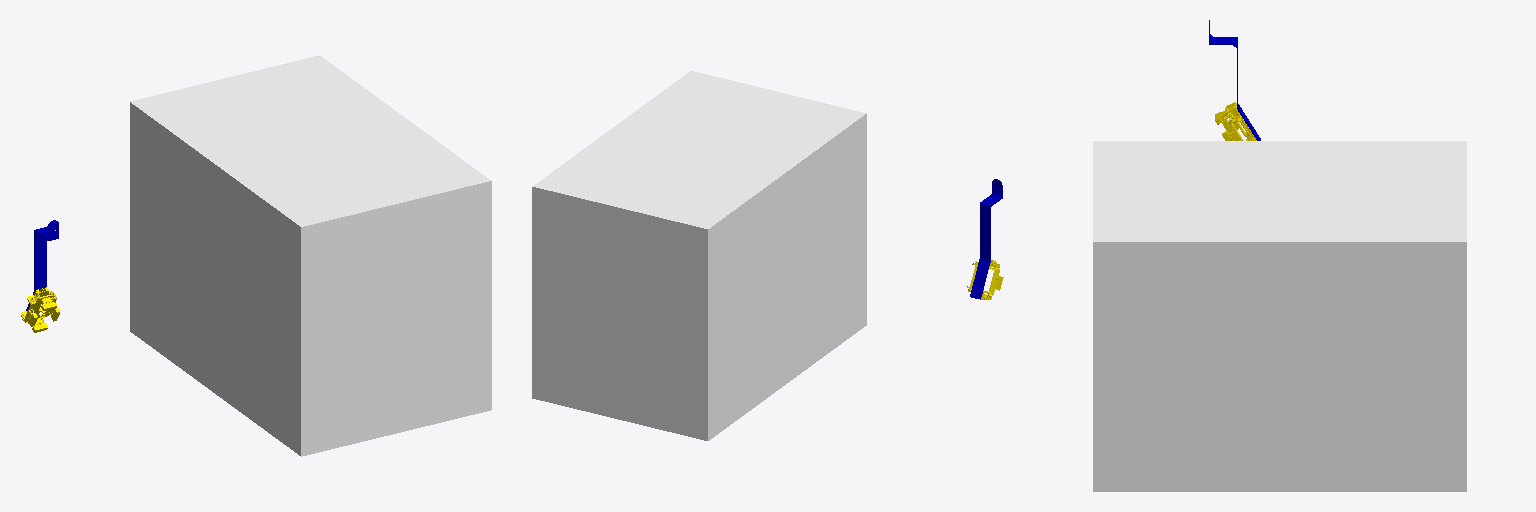
robot.urdf — S20:
<?xml version="1.0" ?>
<robot name="S20">
  <!-- material definition -->
  <material name="black">
    <color rgba="0.0 0.0 0.0 1.0"/>
  </material>
  <material name="blue">
    <color rgba="0.0 0.0 0.8 1.0"/>
  </material>
  <material name="green">
    <color rgba="0.0 0.8 0.0 1.0"/>
  </material>
  <material name="grey">
    <color rgba="0.2 0.2 0.2 1.0"/>
  </material>
  <material name="orange">
    <color rgba="1.0 0.4235294117647059 0.0392156862745098 1.0"/>
  </material>
  <material name="brown">
    <color rgba="0.8705882352941177 0.8117647058823529 0.7647058823529411 1.0"/>
  </material>
  <material name="red">
    <color rgba="0.8 0.0 0.0 1.0"/>
  </material>
  <material name="white">
    <color rgba="1.0 1.0 1.0 1.0"/>
  </material>
  <material name="metal">
    <color rgba="0.768627450980392 0.749019607843137 0.729411764705882 1"/>
  </material>
  <material name="metal_grey">
    <color rgba="0.501960784313725 0.501960784313725 0.501960784313725 1"/>
  </material>
  <material name="metal_white">
    <color rgba="0.866666666666667 0.866666666666667 0.890196078431373 1"/>
  </material>
  <!-- ros_control plugin -->
  <gazebo>
    <plugin filename="libgazebo_ros_control.so" name="gazebo_ros_control">
      <robotSimType>gazebo_ros_control/DefaultRobotHWSim</robotSimType>
      <legacyModeNS>true</legacyModeNS>
    </plugin>
  </gazebo>
  <gazebo reference="elfin_link2">
    <visual name="visual">
      <material>
        <script>
          <uri>file:/[local-path]/scripts/gazebo.material</uri>
          <name>Gazebo/Grey</name>
        </script>
      </material>
    </visual>
  </gazebo>
  <gazebo reference="elfin_link4">
    <visual name="visual">
      <material>
        <script>
          <uri>file:/[local-path]/scripts/gazebo.material</uri>
          <name>Gazebo/Grey</name>
        </script>
      </material>
    </visual>
  </gazebo>
  <!-- transmission for each joint -->
  <transmission name="mobile_base_joint1_trans">
    <type>transmission_interface/SimpleTransmission</type>
    <joint name="mobile_base_joint1">
      <hardwareInterface>hardware_interface/PositionJointInterface</hardwareInterface>
    </joint>
    <actuator name="mobile_base_joint1_motor">
      <mechanicalReduction>1</mechanicalReduction>
    </actuator>
  </transmission>
  <transmission name="mobile_base_joint2_trans">
    <type>transmission_interface/SimpleTransmission</type>
    <joint name="mobile_base_joint2">
      <hardwareInterface>hardware_interface/PositionJointInterface</hardwareInterface>
    </joint>
    <actuator name="mobile_base_joint2_motor">
      <mechanicalReduction>1</mechanicalReduction>
    </actuator>
  </transmission>
  <transmission name="elfin_joint1_trans">
    <type>transmission_interface/SimpleTransmission</type>
    <joint name="elfin_joint1">
      <hardwareInterface>hardware_interface/PositionJointInterface</hardwareInterface>
    </joint>
    <actuator name="elfin_joint1_motor">
      <mechanicalReduction>1</mechanicalReduction>
    </actuator>
  </transmission>
  <transmission name="elfin_joint2_trans">
    <type>transmission_interface/SimpleTransmission</type>
    <joint name="elfin_joint2">
      <hardwareInterface>hardware_interface/PositionJointInterface</hardwareInterface>
    </joint>
    <actuator name="elfin_joint2_motor">
      <mechanicalReduction>1</mechanicalReduction>
    </actuator>
  </transmission>
  <transmission name="elfin_joint3_trans">
    <type>transmission_interface/SimpleTransmission</type>
    <joint name="elfin_joint3">
      <hardwareInterface>hardware_interface/PositionJointInterface</hardwareInterface>
    </joint>
    <actuator name="elfin_joint3_motor">
      <mechanicalReduction>1</mechanicalReduction>
    </actuator>
  </transmission>
  <transmission name="elfin_joint4_trans">
    <type>transmission_interface/SimpleTransmission</type>
    <joint name="elfin_joint4">
      <hardwareInterface>hardware_interface/PositionJointInterface</hardwareInterface>
    </joint>
    <actuator name="elfin_joint4_motor">
      <mechanicalReduction>1</mechanicalReduction>
    </actuator>
  </transmission>
  <transmission name="elfin_joint5_trans">
    <type>transmission_interface/SimpleTransmission</type>
    <joint name="elfin_joint5">
      <hardwareInterface>hardware_interface/PositionJointInterface</hardwareInterface>
    </joint>
    <actuator name="elfin_joint5_motor">
      <mechanicalReduction>1</mechanicalReduction>
    </actuator>
  </transmission>
  <transmission name="elfin_joint6_trans">
    <type>transmission_interface/SimpleTransmission</type>
    <joint name="elfin_joint6">
      <hardwareInterface>hardware_interface/PositionJointInterface</hardwareInterface>
    </joint>
    <actuator name="elfin_joint6_motor">
      <mechanicalReduction>1</mechanicalReduction>
    </actuator>
  </transmission>
  <!-- link and joint -->
  <link name="world"/>
  <joint name="mobile_base_joint1" type="prismatic">
    <origin rpy="0 0 0" xyz="0 0 0"/>
    <parent link="world"/>
    <child link="mobile_base_link1"/>
    <axis xyz="1 0 0"/>
    <limit effort="200" lower="-5" upper="5" velocity="0.5"/>
  </joint>
  <link name="mobile_base_link1">
    <visual>
      <origin rpy="0 0 0" xyz="0 0 0.05"/>
      <geometry>
        <box size="0.1 0.1 0.1"/>
      </geometry>
      <material name="">
        <color rgba="1 1 1 1"/>
      </material>
    </visual>
    <collision>
      <origin rpy="0 0 0" xyz="0 0 0.05"/>
      <geometry>
        <box size="0.1 0.1 0.1"/>
      </geometry>
    </collision>
    <inertial>
      <origin rpy="0 0 0" xyz="0 0 0.05" />
      <mass value="1.0" />
      <inertia
        ixx="1.0" ixy="0.0" ixz="0.0"
        iyy="1.0" iyz="0.0"
        izz="1.0" />
    </inertial>
  </link>
  <joint name="mobile_base_joint2" type="prismatic">
    <origin rpy="0 0 0" xyz="0 0 0"/>
    <parent link="mobile_base_link1"/>
    <child link="mobile_base_link2"/>
    <axis xyz="0 1 0"/>
    <limit effort="200" lower="-5" upper="5" velocity="0.5"/>
  </joint>
  <link name="mobile_base_link2">
    <visual>
      <origin rpy="0 0 0" xyz="0 0 0.59"/>
      <geometry>
        <box size="1.024 1.6 1.18"/>
      </geometry>
      <material name="">
        <color rgba="1 1 1 1"/>
      </material>
    </visual>
    <collision>
      <origin rpy="0 0 0" xyz="0 0 0.59"/>
      <geometry>
        <box size="1.024 1.6 1.18"/>
      </geometry>
    </collision>
    <inertial>
      <origin rpy="0 0 0" xyz="0 0 0.59" />
      <mass value="1.0" />
      <inertia
        ixx="1.0" ixy="0.0" ixz="0.0"
        iyy="1.0" iyz="0.0"
        izz="1.0" />
    </inertial>
  </link>
  <joint name="elfin_fixed_joint" type="fixed">
    <origin rpy="0 0 0" xyz="0 0 1.18"/>
    <parent link="mobile_base_link2"/>
    <child link="elfin_base_link"/>
  </joint>
  <link name="elfin_base_link"/>
  <joint name="elfin_base_joint" type="fixed">
    <origin rpy="0 0 0" xyz="0 0 0"/>
    <parent link="elfin_base_link"/>
    <child link="elfin_base"/>
  </joint>
  <link name="elfin_base">
    <inertial>
      <origin rpy="0 0 0" xyz="-0.00131650768656017 3.86349405459754E-05 0.0343213199540785"/>
      <mass value="2.32181468230125"/>
      <inertia ixx="0.00741739022505177" ixy="-9.4225231258528E-05" ixz="-5.45619950886553E-05" iyy="0.00699483778046143" iyz="1.30022773204213E-06" izz="0.0123390065438587"/>
    </inertial>
    <visual>
      <origin rpy="0 0 0" xyz="0 0 0"/>
      <geometry>
        <mesh filename="package://elfin_description/meshes/S20/elfin_base.STL"/>
      </geometry>
      <material name="">
        <color rgba="0.752941176470588 0.752941176470588 0.752941176470588 1"/>
      </material>
    </visual>
    <collision>
      <origin rpy="0 0 0" xyz="0 0 0"/>
      <geometry>
        <mesh filename="package://elfin_description/meshes/S20/elfin_base.STL"/>
      </geometry>
    </collision>
  </link>
  <link name="elfin_link1">
    <inertial>
      <origin rpy="0 0 0" xyz="-1.0792519167212E-07 -0.0224399626110038 0.00175002240516534"/>
      <mass value="6.93455742496729"/>
      <inertia ixx="0.0460589183335357" ixy="5.43718136375216E-07" ixz="2.96738634298801E-07" iyy="0.0375916708812216" iyz="-0.000245581780149179" izz="0.0394268304468804"/>
    </inertial>
    <visual>
      <origin rpy="0 0 0" xyz="0 0 0"/>
      <geometry>
        <mesh filename="package://elfin_description/meshes/S20/elfin_link1.STL"/>
      </geometry>
      <material name="">
        <color rgba="0.898039215686275 0.917647058823529 0.929411764705882 1"/>
      </material>
    </visual>
    <collision>
      <origin rpy="0 0 0" xyz="0 0 0"/>
      <geometry>
        <mesh filename="package://elfin_description/meshes/S20/elfin_link1.STL"/>
      </geometry>
    </collision>
  </link>
  <joint name="elfin_joint1" type="revolute">
    <origin rpy="0 0 0" xyz="0 0 0.171"/>
    <parent link="elfin_base"/>
    <child link="elfin_link1"/>
    <axis xyz="0 0 1"/>
    <limit effort="200" lower="-6.28" upper="6.28" velocity="1.57"/>
  </joint>
  <link name="elfin_link2">
    <inertial>
      <origin rpy="0 0 0" xyz="-0.370229694350317 9.38128437405483E-07 0.000899041883029139"/>
      <mass value="18.8395085758056"/>
      <inertia ixx="0.0687507132351259" ixy="-5.05507420279161E-07" ixz="-6.41343868263508E-05" iyy="0.411200291693132" iyz="-1.80729528146994E-07" izz="0.40138597350588"/>
    </inertial>
    <visual>
      <origin rpy="0 0 0" xyz="0 0 0"/>
      <geometry>
        <mesh filename="package://elfin_description/meshes/S20/elfin_link2.STL"/>
      </geometry>
      <material name="">
        <color rgba="0.752941176470588 0.752941176470588 0.752941176470588 1"/>
      </material>
    </visual>
    <collision>
      <origin rpy="0 0 0" xyz="0 0 0"/>
      <geometry>
        <mesh filename="package://elfin_description/meshes/S20/elfin_link2.STL"/>
      </geometry>
    </collision>
  </link>
  <joint name="elfin_joint2" type="revolute">
    <origin rpy="1.5708 0 0" xyz="0 -0.2295 0"/>
    <parent link="elfin_link1"/>
    <child link="elfin_link2"/>
    <axis xyz="0 0 1"/>
    <limit effort="200" lower="-3.3158" upper="0.1745" velocity="1.57"/>
  </joint>
  <link name="elfin_link3">
    <inertial>
      <origin rpy="0 0 0" xyz="0.310973076601113 -4.7405306624615E-09 0.0109938899740937"/>
      <mass value="7.53508270364931"/>
      <inertia ixx="0.0133872719937165" ixy="1.91460600478011E-07" ixz="0.00152175061957157" iyy="0.11837455186459" iyz="-2.26041817837737E-08" izz="0.116582348081593"/>
    </inertial>
    <visual>
      <origin rpy="0 0 0" xyz="0 0 0"/>
      <geometry>
        <mesh filename="package://elfin_description/meshes/S20/elfin_link3.STL"/>
      </geometry>
      <material name="">
        <color rgba="0.752941176470588 0.752941176470588 0.752941176470588 1"/>
      </material>
    </visual>
    <collision>
      <origin rpy="0 0 0" xyz="0 0 0"/>
      <geometry>
        <mesh filename="package://elfin_description/meshes/S20/elfin_link3.STL"/>
      </geometry>
    </collision>
  </link>
  <joint name="elfin_joint3" type="revolute">
    <origin rpy="0 0 3.1416" xyz="-0.85 0 -0.1885"/>
    <parent link="elfin_link2"/>
    <child link="elfin_link3"/>
    <axis xyz="0 0 1"/>
    <limit effort="200" lower="-2.9319" upper="2.9319" velocity="1.57"/>
  </joint>
  <link name="elfin_link4">
    <inertial>
      <origin rpy="0 0 0" xyz="8.5204157129759E-07 -0.00559612992738279 0.124499710924349"/>
      <mass value="1.26777180180805"/>
      <inertia ixx="0.00300888445161096" ixy="1.64612435809042E-08" ixz="3.62281943568331E-08" iyy="0.00214465218602862" iyz="9.35786831203314E-05" izz="0.00239761638151984"/>
    </inertial>
    <visual>
      <origin rpy="0 0 0" xyz="0 0 0"/>
      <geometry>
        <mesh filename="package://elfin_description/meshes/S20/elfin_link4.STL"/>
      </geometry>
      <material name="">
        <color rgba="0.898039215686275 0.917647058823529 0.929411764705882 1"/>
      </material>
    </visual>
    <collision>
      <origin rpy="0 0 0" xyz="0 0 0"/>
      <geometry>
        <mesh filename="package://elfin_description/meshes/S20/elfin_link4.STL"/>
      </geometry>
    </collision>
  </link>
  <joint name="elfin_joint4" type="revolute">
    <origin rpy="0 0 0" xyz="0.712 0 0"/>
    <parent link="elfin_link3"/>
    <child link="elfin_link4"/>
    <axis xyz="0 0 1"/>
    <limit effort="104" lower="-6.28" upper="6.28" velocity="1.57"/>
  </joint>
  <link name="elfin_link5">
    <inertial>
      <origin rpy="0 0 0" xyz="-1.58900480728974E-06 0.00559613044782842 0.124499711309393"/>
      <mass value="1.26777180180803"/>
      <inertia ixx="0.00300888445161093" ixy="1.64612435696446E-08" ixz="-3.62281943491141E-08" iyy="0.00214465218602857" iyz="-9.35786831203246E-05" izz="0.00239761638151982"/>
    </inertial>
    <visual>
      <origin rpy="0 0 0" xyz="0 0 0"/>
      <geometry>
        <mesh filename="package://elfin_description/meshes/S20/elfin_link5.STL"/>
      </geometry>
      <material name="">
        <color rgba="0.752941176470588 0.752941176470588 0.752941176470588 1"/>
      </material>
    </visual>
    <collision>
      <origin rpy="0 0 0" xyz="0 0 0"/>
      <geometry>
        <mesh filename="package://elfin_description/meshes/S20/elfin_link5.STL"/>
      </geometry>
    </collision>
  </link>
  <joint name="elfin_joint5" type="revolute">
    <origin rpy="-1.5708 0 0" xyz="0 0 0.138"/>
    <parent link="elfin_link4"/>
    <child link="elfin_link5"/>
    <axis xyz="0 0 1"/>
    <limit effort="34" lower="-6.28" upper="6.28" velocity="1.57"/>
  </joint>
  <link name="elfin_link6">
    <inertial>
      <origin rpy="0 0 0" xyz="-7.47115137089693E-07 0.000102435646244473 0.0904183015693256"/>
      <mass value="0.468079508708449"/>
      <inertia ixx="0.000412770805513074" ixy="1.60636639637837E-08" ixz="-3.02343967687703E-08" iyy="0.000415704740293176" iyz="1.46595766333508E-07" izz="0.000530952415351683"/>
    </inertial>
    <visual>
      <origin rpy="0 0 0" xyz="0 0 0"/>
      <geometry>
        <mesh filename="package://elfin_description/meshes/S20/elfin_link6.STL"/>
      </geometry>
      <material name="">
        <color rgba="0.752941176470588 0.752941176470588 0.752941176470588 1"/>
      </material>
    </visual>
    <collision>
      <origin rpy="0 0 0" xyz="0 0 0"/>
      <geometry>
        <mesh filename="package://elfin_description/meshes/S20/elfin_link6.STL"/>
      </geometry>
    </collision>
  </link>
  <joint name="elfin_joint6" type="revolute">
    <origin rpy="1.5708 0 0" xyz="0 0 0.138"/>
    <parent link="elfin_link5"/>
    <child link="elfin_link6"/>
    <axis xyz="0 0 1"/>
    <limit effort="34" lower="-6.28" upper="6.28" velocity="1.57"/>
  </joint>
  <link name="elfin_end_link">
  </link>
  <joint name="elfin_end_joint" type="fixed">
    <origin rpy="0 0 3.1416" xyz="0 0 0.1257"/>
    <parent link="elfin_link6"/>
    <child link="elfin_end_link"/>
  </joint>
  <link name="ee_link">
    <visual>
      <origin rpy="0 0 0" xyz="0 0 0"/>
      <geometry>
        <mesh filename="package://elfin_description/meshes/S20/ee_link.STL"/>
      </geometry>
      <material name="">
        <color rgba="0 0 0.8 1"/>
      </material>
    </visual>
    <collision>
      <origin rpy="0 0 0" xyz="0 0 0"/>
      <geometry>
        <mesh filename="package://elfin_description/meshes/S20/ee_link.STL"/>
      </geometry>
    </collision>
  </link>
  <joint name="ee_link_joint" type="fixed">
    <origin rpy="-1.5707 0 1.5707" xyz="0.035 -0.155 0"/>
    <parent link="elfin_end_link"/>
    <child link="ee_link"/>
  </joint>
  <link name="gripper_link0">
    <visual>
      <origin rpy="0 0 0" xyz="0 0 0"/>
      <geometry>
        <mesh filename="package://elfin_description/meshes/S20/gripper_link.STL"/>
      </geometry>
      <material name="">
        <color rgba="0 0 0.8 1"/>
      </material>
    </visual>
    <collision>
      <origin rpy="0 0 0" xyz="0 0 0"/>
      <geometry>
        <mesh filename="package://elfin_description/meshes/S20/gripper_link.STL"/>
      </geometry>
    </collision>
  </link>
  <joint name="gripper_link_joint0" type="fixed">
    <origin rpy="1.5707 0 0" xyz="-0.1 0.124 0"/>
    <parent link="ee_link"/>
    <child link="gripper_link0"/>
  </joint>
  <link name="gripper_link1">
    <visual>
      <origin rpy="0 0 0" xyz="0 0 0"/>
      <geometry>
        <mesh filename="package://elfin_description/meshes/S20/gripper_link.STL"/>
      </geometry>
      <material name="">
        <color rgba="0 0 0.8 1"/>
      </material>
    </visual>
    <collision>
      <origin rpy="0 0 0" xyz="0 0 0"/>
      <geometry>
        <mesh filename="package://elfin_description/meshes/S20/gripper_link.STL"/>
      </geometry>
    </collision>
  </link>
  <joint name="gripper_link_joint1" type="fixed">
    <origin rpy="0 0 0" xyz="-0.1 0 0"/>
    <parent link="gripper_link0"/>
    <child link="gripper_link1"/>
  </joint>
  <link name="gripper_link_ee1">
    <visual>
      <origin rpy="0 0 0" xyz="0 0 0"/>
      <geometry>
        <mesh filename="package://elfin_description/meshes/S20/gripper_link.STL"/>
      </geometry>
      <material name="">
        <color rgba="0 0 0.8 1"/>
      </material>
    </visual>
    <collision>
      <origin rpy="0 0 0" xyz="0 0 0"/>
      <geometry>
        <mesh filename="package://elfin_description/meshes/S20/gripper_link.STL"/>
      </geometry>
    </collision>
  </link>
  <joint name="gripper_link_joint_ee1" type="fixed">
    <origin rpy="0 -0.5235 0" xyz="-0.0866 0 -0.05"/>
    <parent link="gripper_link1"/>
    <child link="gripper_link_ee1"/>
  </joint>
  <link name="gripper_link_ee2">
    <visual>
      <origin rpy="0 0 0" xyz="0 0 0"/>
      <geometry>
        <mesh filename="package://elfin_description/meshes/S20/gripper_link.STL"/>
      </geometry>
      <material name="">
        <color rgba="0 0 0.8 1"/>
      </material>
    </visual>
    <collision>
      <origin rpy="0 0 0" xyz="0 0 0"/>
      <geometry>
        <mesh filename="package://elfin_description/meshes/S20/gripper_link.STL"/>
      </geometry>
    </collision>
  </link>
  <joint name="gripper_link_joint_ee2" type="fixed">
    <origin rpy="0 0 0" xyz="-0.1 0 0"/>
    <parent link="gripper_link_ee1"/>
    <child link="gripper_link_ee2"/>
  </joint>
  <link name="needle_gripper">
    <visual>
      <origin rpy="0 0 0" xyz="0 0 0"/>
      <geometry>
        <mesh filename="package://elfin_description/meshes/S20/needle_gripper.STL"/>
      </geometry>
      <material name="">
        <color rgba="1.0 0.92 0.016 1"/>
      </material>
    </visual>
    <collision>
      <origin rpy="0 0 0" xyz="0 0 0"/>
      <geometry>
        <mesh filename="package://elfin_description/meshes/S20/needle_gripper.STL"/>
      </geometry>
    </collision>
  </link>
  <joint name="gripper_joint" type="fixed">
    <origin rpy="-1.5708 0 0" xyz="0.106 0.0305 0.09"/>
    <parent link="gripper_link_ee2"/>
    <child link="needle_gripper"/>
  </joint>

</robot>

--- Facts derived from the render (not from the file) ---
3 views of the same robot in one strip: view 1: azimuth 30°, elevation 25°; view 2: azimuth 150°, elevation 25°; view 3: azimuth 270°, elevation 25° (orthographic).
Model S20 with 18 links and 17 joints (6 revolute, 2 prismatic, 9 fixed), rooted at world, posed every joint at zero.
Visible links, largest first — view 1: mobile_base_link2, needle_gripper; view 2: mobile_base_link2, ee_link; view 3: mobile_base_link2, needle_gripper.
Boxes of the visible links, bbox=[...] form: mobile_base_link2: bbox=[130, 55, 491, 456]; needle_gripper: bbox=[21, 287, 60, 332]; mobile_base_link2: bbox=[532, 71, 866, 440]; ee_link: bbox=[980, 179, 1002, 224]; mobile_base_link2: bbox=[1093, 141, 1466, 491]; needle_gripper: bbox=[1215, 102, 1256, 140].
Bounding box of the posed robot: 2.14 × 1.6 × 1.26 m (x, y, z).
6 mesh visuals loaded from 10 distinct referenced files (3 binary STL); not drawn: 7 (reference not matched to a file when rendering).